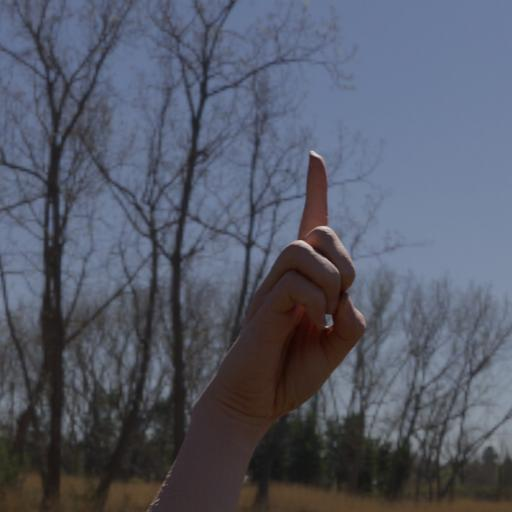D: (166, 139, 378, 512)
